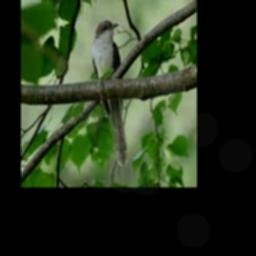Cuckoo: (92, 20, 127, 167)
